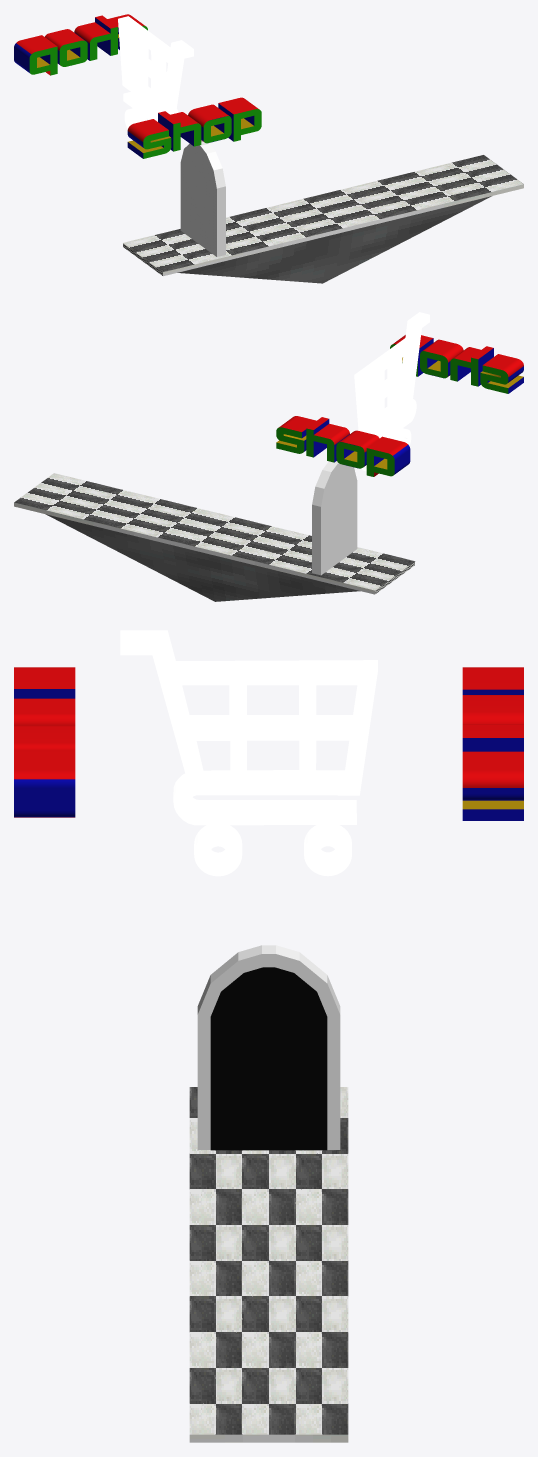
Rendered from runway.gltf.
The picture shows the model from 3 angles, top to bottom: view 1: azimuth 30°, elevation 25°; view 2: azimuth 150°, elevation 25°; view 3: azimuth 270°, elevation 25°; orthographic projection. The views are drawn at different scales.
Visible parts, largest first — view 1: LLL.007, Text.011, Plane.016, Plane.004; view 2: LLL.007, Text.011, Plane.016, Plane.004; view 3: LLL.007, Plane.016, Plane.004, Text.011.
Part boxes in pixels (bbox=[...]): LLL.007: bbox=[123, 155, 523, 283]; Text.011: bbox=[14, 14, 261, 158]; Plane.016: bbox=[118, 16, 193, 151]; Plane.004: bbox=[180, 140, 225, 256]; LLL.007: bbox=[14, 473, 415, 601]; Text.011: bbox=[276, 335, 523, 476]; Plane.016: bbox=[354, 312, 429, 471]; Plane.004: bbox=[312, 461, 357, 575]; LLL.007: bbox=[189, 1087, 348, 1442]; Plane.016: bbox=[120, 630, 377, 876]; Plane.004: bbox=[197, 945, 340, 1150]; Text.011: bbox=[14, 667, 523, 820].
Size of the model in its own units: 57.28 by 39 by 30.16.
9 materials, 2 textured.
